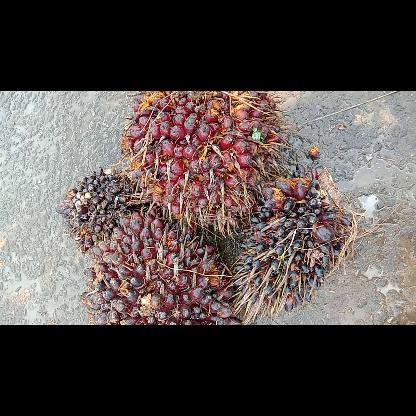Kurang masak: (82, 204, 242, 324)
TBS abnormal: (236, 164, 352, 310), (55, 166, 135, 252)
TBS masak: (122, 91, 280, 225)
